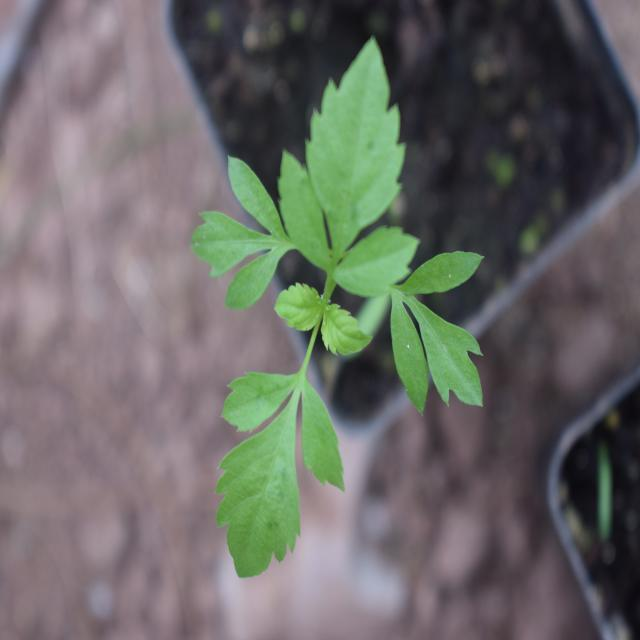Bidens pilosa: (183, 28, 489, 584)
